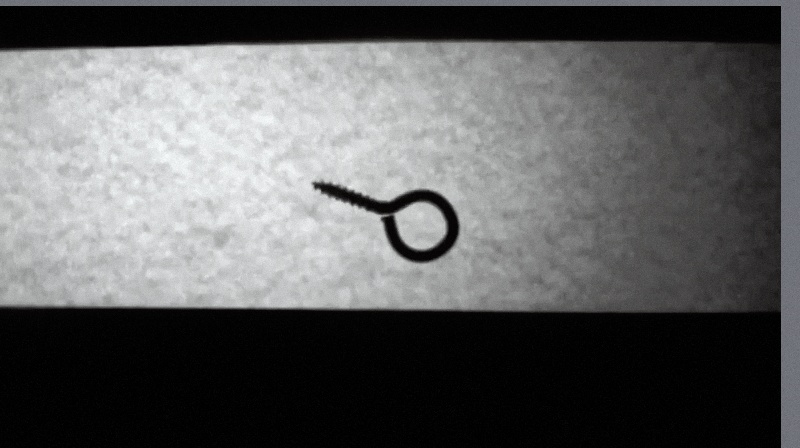O001: (306, 173, 463, 265)
